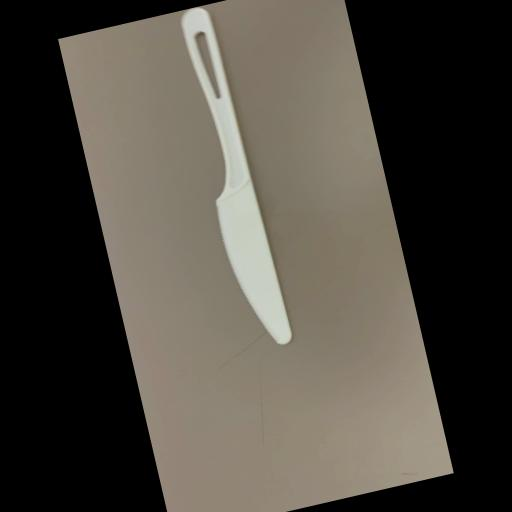utensil: (145, 0, 314, 372)
